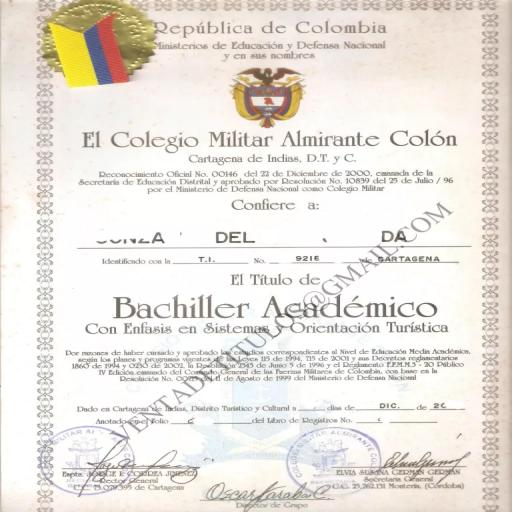bachillerato: (93, 288, 450, 325)
diploma: (1, 0, 510, 511)
escudo: (217, 65, 313, 128)
firma: (52, 430, 217, 486), (340, 430, 482, 488)
institucion: (72, 120, 463, 154)
